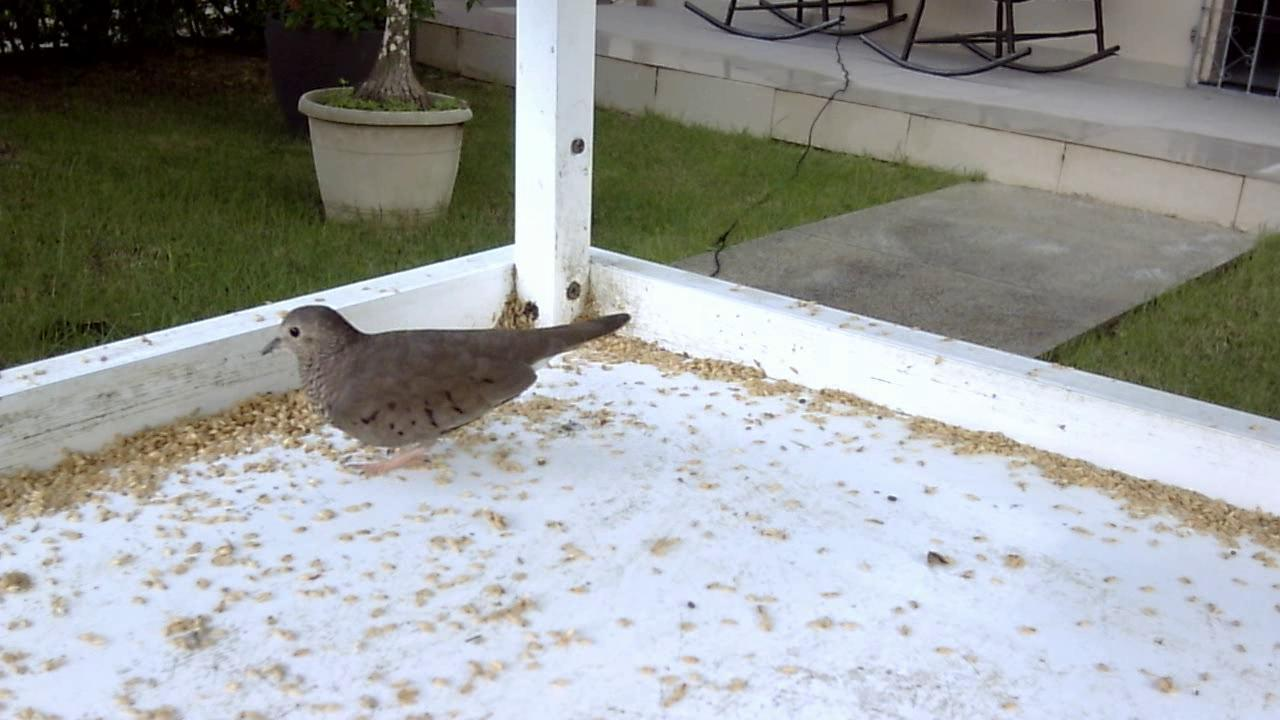rolinha: (253, 286, 643, 477)
